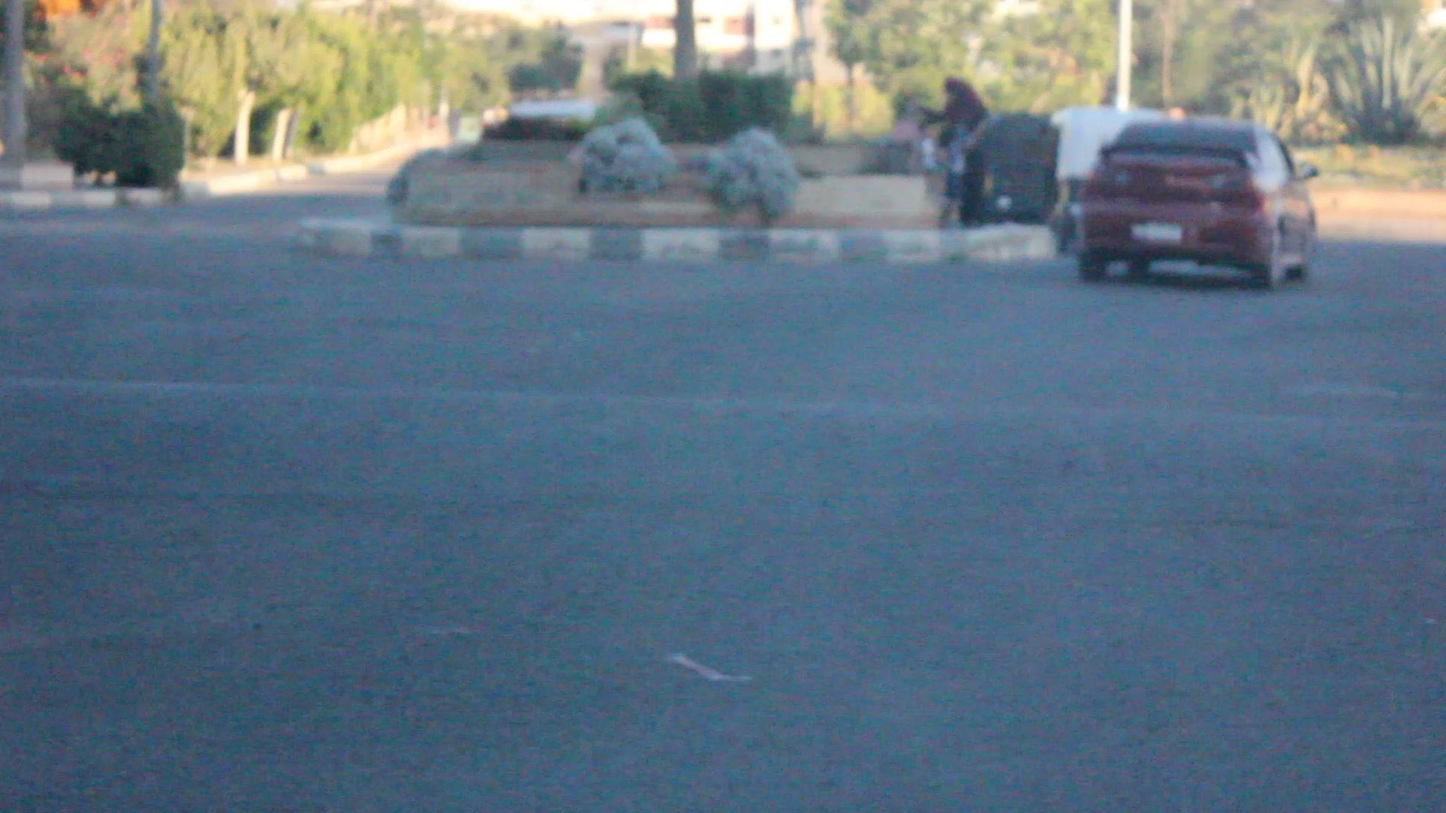Bump: (15, 350, 1446, 531)
